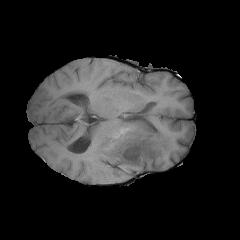glioma: (88, 115, 174, 183)
